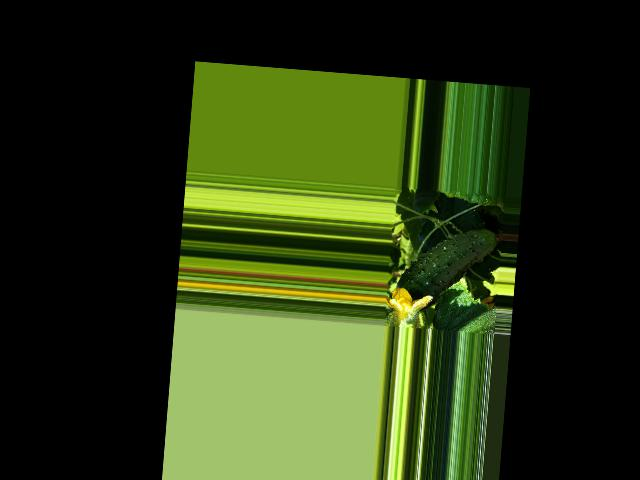cucumber: (395, 221, 503, 317)
